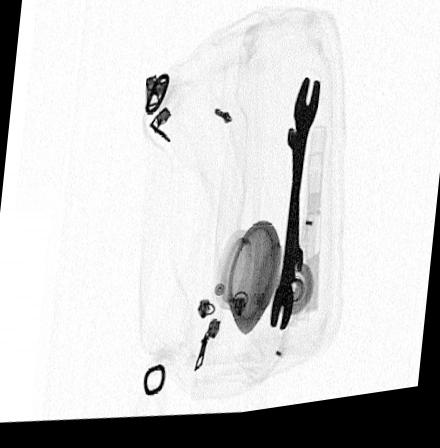Wrench: (270, 84, 319, 336), (285, 134, 310, 292)
